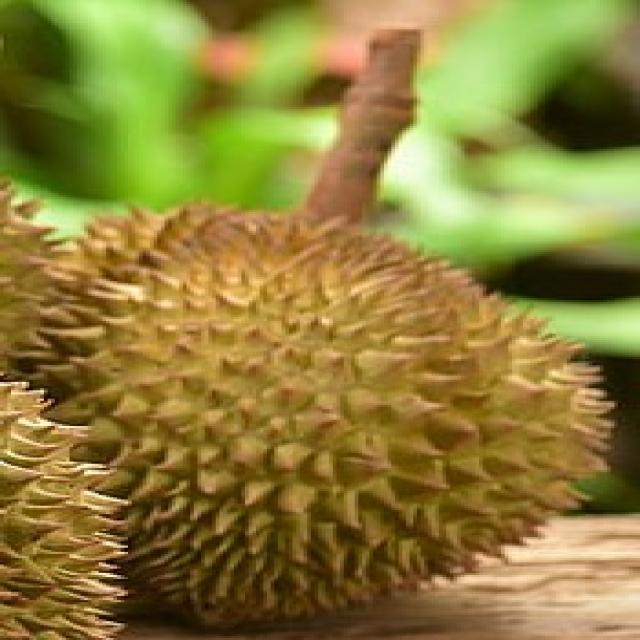mature: (13, 205, 610, 627)
